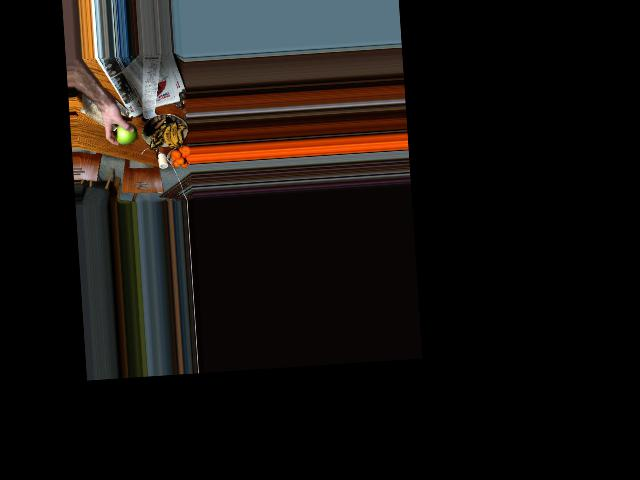apple: (115, 119, 137, 146)
